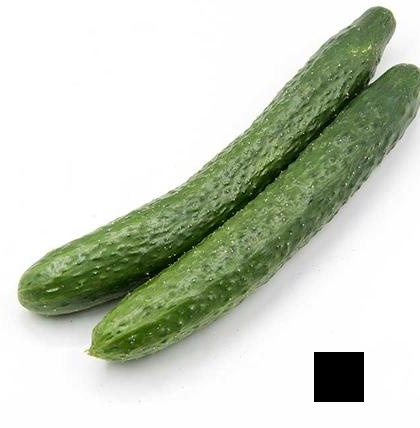cucumber: (24, 14, 398, 317), (94, 58, 420, 363)
